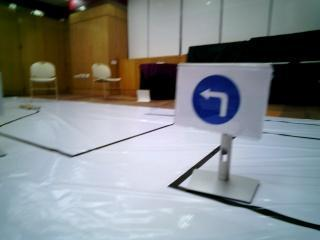left: (178, 68, 250, 129)
